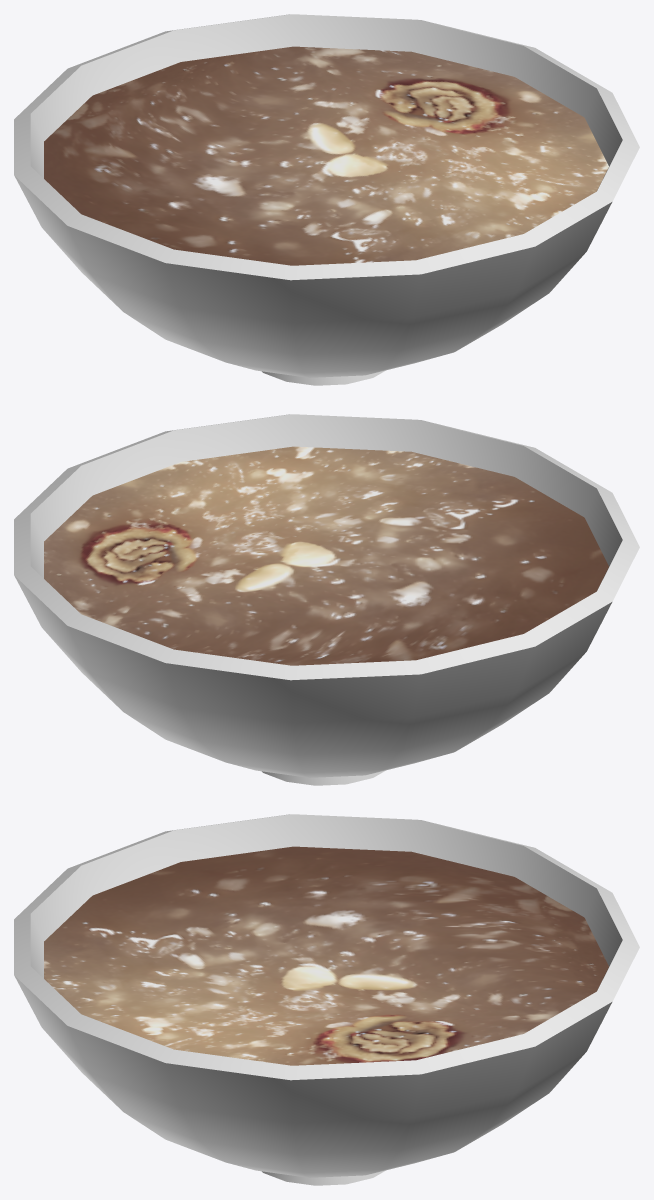
File: SikHye.fbx
The picture shows the model from 3 angles, top to bottom: view 1: azimuth 30°, elevation 25°; view 2: azimuth 150°, elevation 25°; view 3: azimuth 270°, elevation 25°; orthographic projection.
Visible parts, largest first — view 1: SikHye, Dish; view 2: SikHye, Dish; view 3: SikHye, Dish.
Boxes of the visible parts, box(x1,y1,x2,y2) form: SikHye: box(44, 46, 608, 265); Dish: box(14, 14, 639, 385); SikHye: box(44, 446, 608, 665); Dish: box(14, 414, 639, 785); SikHye: box(44, 846, 608, 1065); Dish: box(14, 814, 639, 1185).
Bounding box in the file's own units: 133 × 51.68 × 132.
2 materials, 1 textured.
